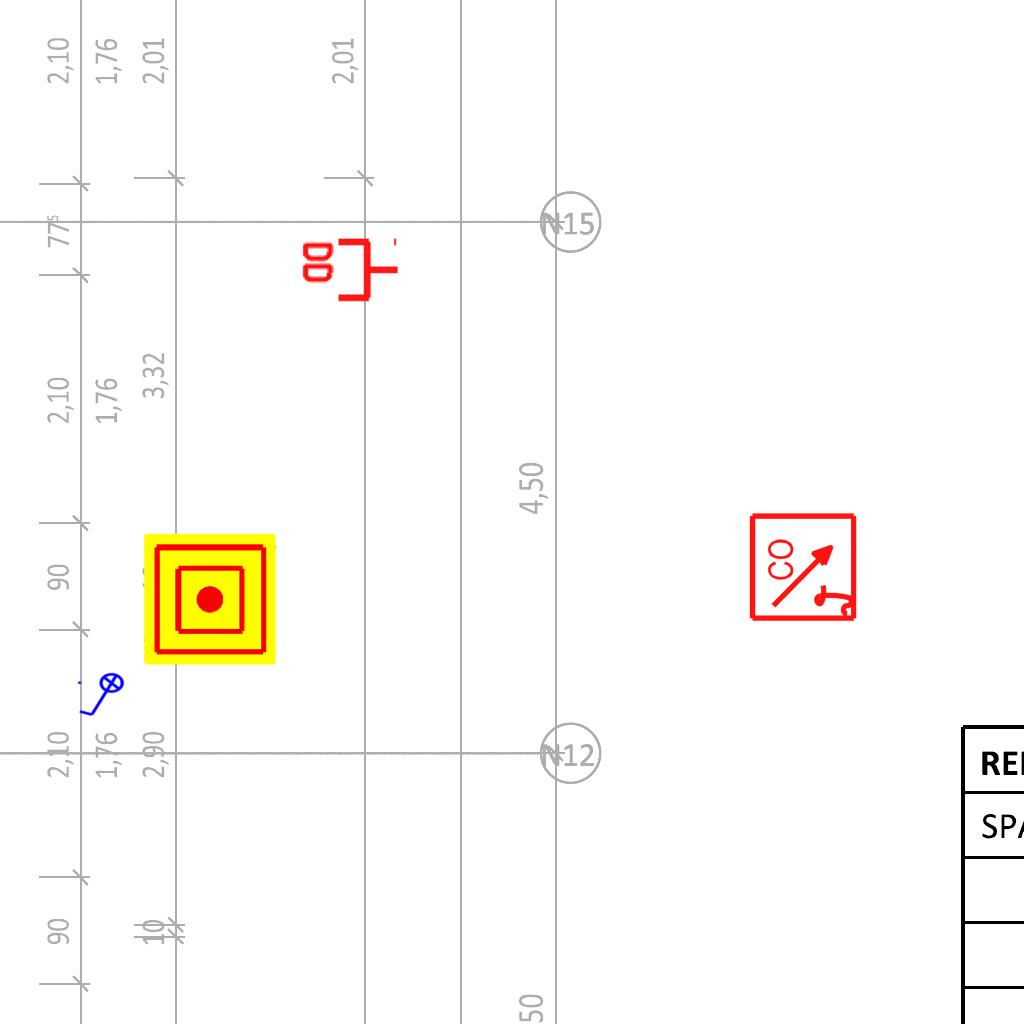Ausschalter_beleuchtet: (74, 671, 132, 721)
Datenanschluss_zweifach: (298, 237, 401, 306)
NAM-Nichtautomatischer_Melder: (144, 533, 276, 665)
ROA_Rauchmelder_optisch_mit_Signalgeber_(Sockelsirene): (748, 510, 861, 623)
